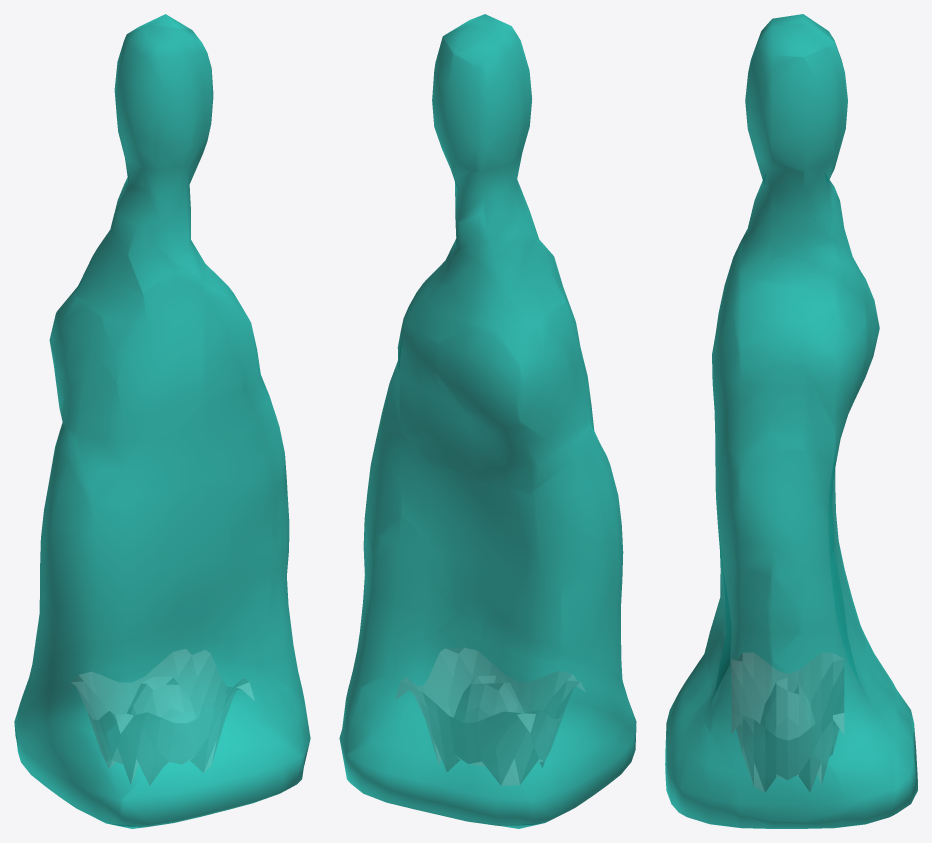
3 renders of one model, left to right at view 1: azimuth 30°, elevation 25°; view 2: azimuth 150°, elevation 25°; view 3: azimuth 270°, elevation 25°, orthographic.
Parts seen in each view (by area): view 1: Liquid_Domain, グリッド; view 2: Liquid_Domain, グリッド; view 3: Liquid_Domain, グリッド.
Boxes of the visible parts, left/top/right/bottom form: Liquid_Domain: left=14, top=14, right=310, bottom=828; グリッド: left=67, top=649, right=254, bottom=785; Liquid_Domain: left=339, top=14, right=636, bottom=828; グリッド: left=395, top=648, right=585, bottom=785; Liquid_Domain: left=665, top=14, right=917, bottom=828; グリッド: left=731, top=652, right=843, bottom=792.
Size of the model in its own units: 0.759 by 2.29 by 0.6706.
